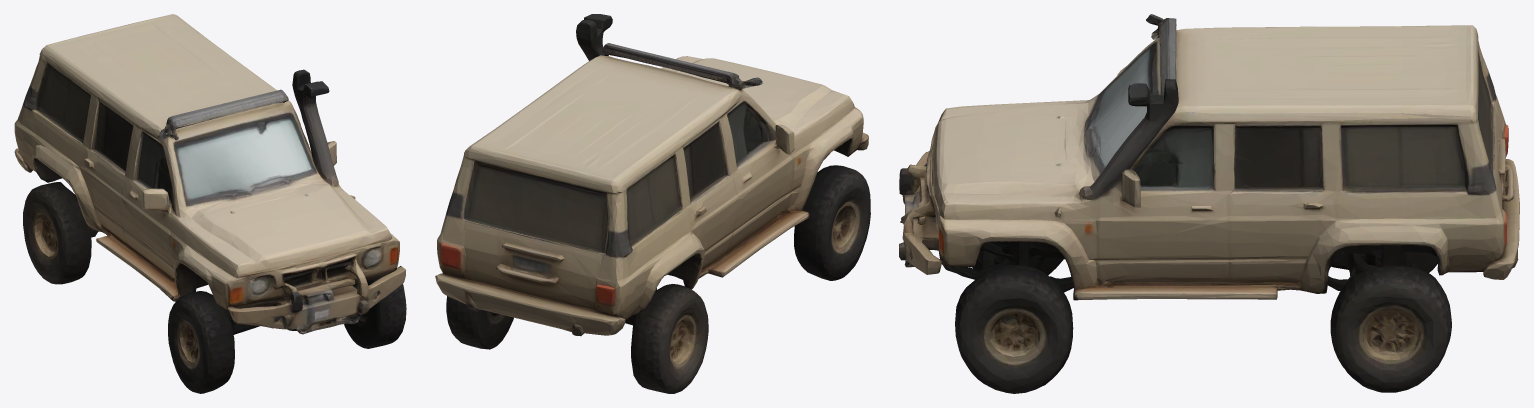
Rendered from e8d4f17c-19a0-4d0c-a27e-ebaf60e4596a.glb.
The picture shows the model from 3 angles, left to right: view 1: azimuth 30°, elevation 25°; view 2: azimuth 150°, elevation 25°; view 3: azimuth 270°, elevation 25°; orthographic projection. The views are drawn at different scales.
Parts seen in each view (by area): view 1: geometry_0; view 2: geometry_0; view 3: geometry_0.
Boxes of the visible parts, x1=… form: geometry_0: x1=14, y1=14, x2=406, y2=393; geometry_0: x1=435, y1=14, x2=870, y2=393; geometry_0: x1=899, y1=14, x2=1519, y2=393.
Bounding box in the file's own units: 0.4857 × 0.5387 × 0.9938.
Materials: 1 (1 with a texture image).
